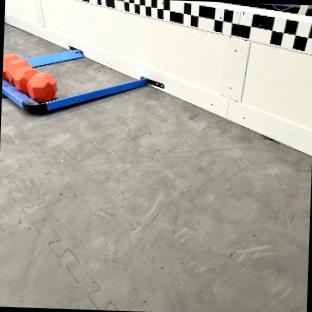V5_RED: (3, 53, 57, 102)
